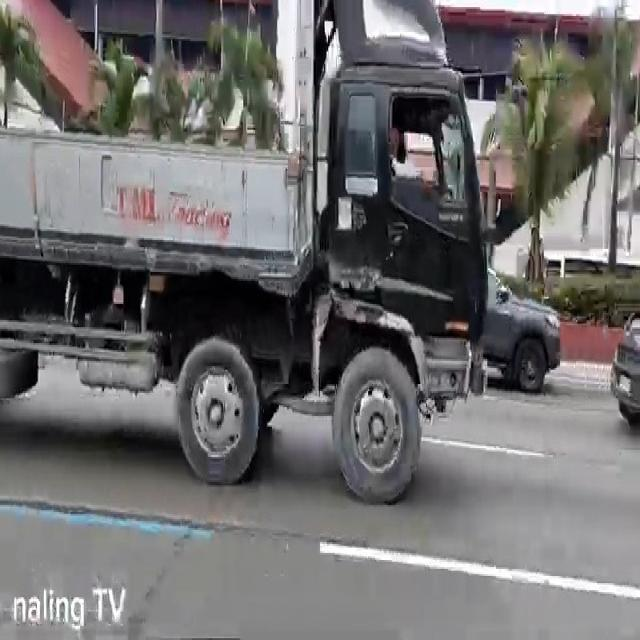car: (485, 264, 562, 399)
truck: (0, 0, 487, 503)
